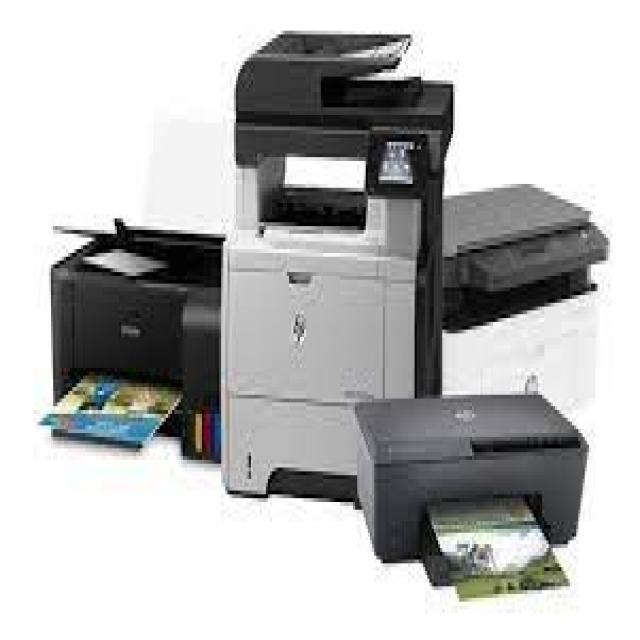printer: (221, 22, 458, 507), (351, 383, 591, 613), (42, 215, 230, 471), (440, 179, 616, 440)
